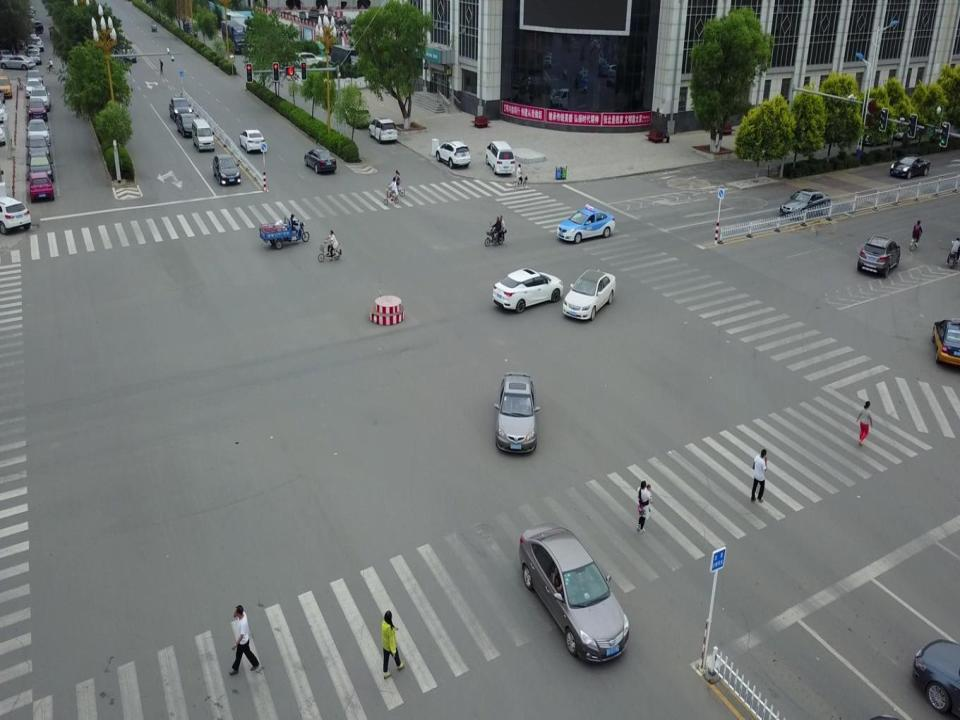car: (519, 522, 629, 662), (910, 631, 960, 718), (493, 371, 542, 456), (493, 268, 563, 312), (564, 269, 616, 320), (557, 203, 615, 244), (229, 605, 260, 674), (779, 188, 831, 220), (381, 610, 405, 678), (932, 318, 960, 367), (889, 154, 931, 178), (212, 154, 240, 185), (26, 152, 54, 182), (858, 125, 893, 147), (304, 149, 336, 173), (25, 135, 51, 161), (26, 118, 50, 146), (239, 129, 265, 153), (0, 54, 36, 70), (28, 86, 51, 111), (25, 98, 48, 122), (176, 113, 198, 137), (24, 78, 42, 98), (118, 45, 136, 63), (2, 37, 26, 50)
truck: (220, 19, 248, 54), (182, 15, 198, 39)
van: (857, 234, 901, 278), (0, 195, 31, 234), (486, 140, 515, 175), (436, 140, 470, 168), (889, 113, 922, 141), (28, 172, 54, 204), (191, 118, 215, 152), (369, 117, 398, 143), (294, 50, 323, 70), (169, 96, 192, 121), (345, 106, 371, 128), (24, 68, 44, 88), (25, 44, 40, 63), (0, 75, 12, 98), (26, 48, 42, 65), (29, 36, 43, 52), (26, 33, 38, 47)
